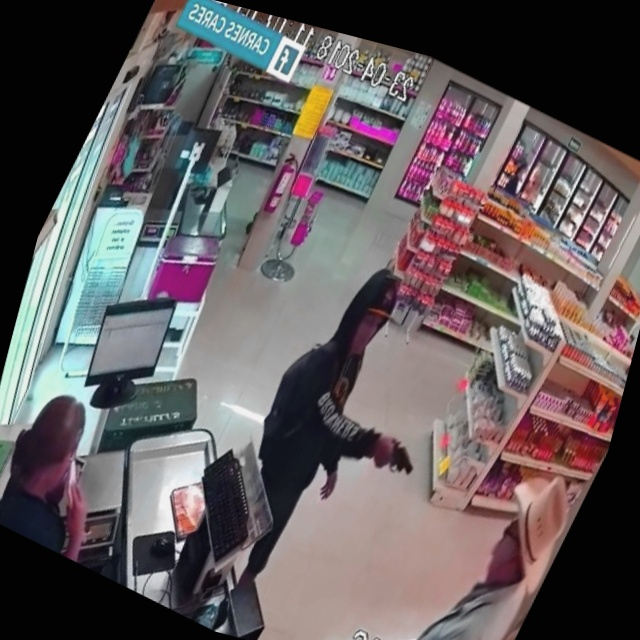gun: (366, 422, 434, 498)
